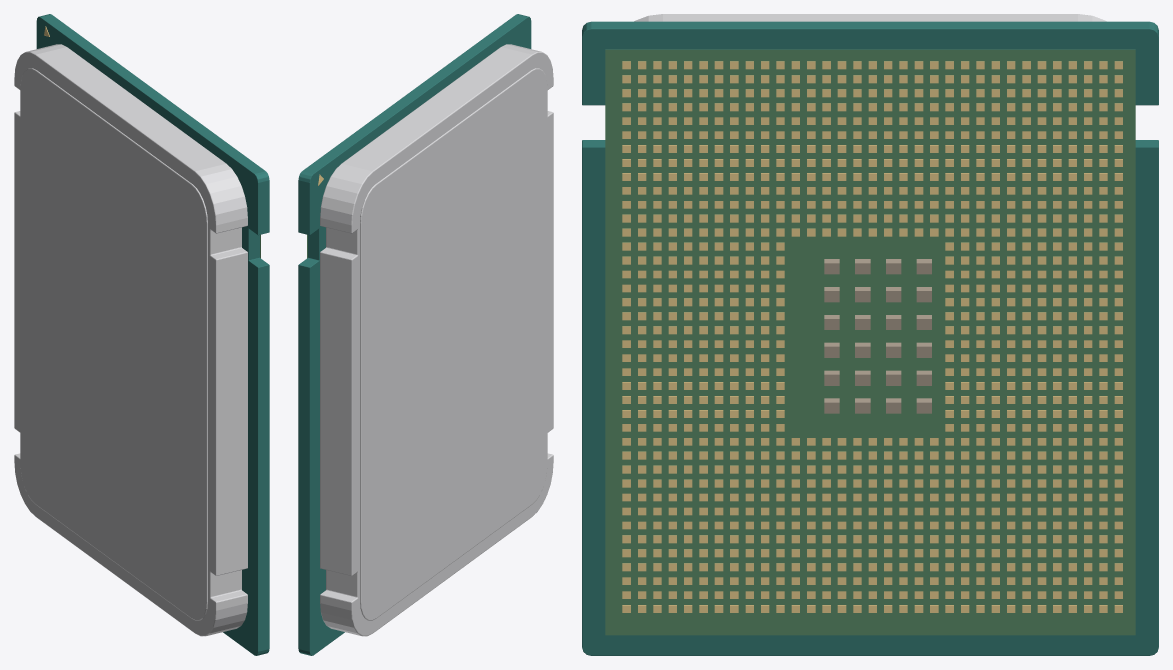
Rendered from CPU_LGA1700.glb.
3 views of the same model, side by side, from view 1: azimuth 30°, elevation 25°; view 2: azimuth 150°, elevation 25°; view 3: azimuth 270°, elevation 25° (orthographic). The views are drawn at different scales.
Parts seen in each view (by area): view 1: CPU_LGA1700_IHS, CPU_LGA1700_Substrate; view 2: CPU_LGA1700_IHS, CPU_LGA1700_Substrate; view 3: CPU_LGA1700_Pads, CPU_LGA1700_Substrate, CPU_LGA1700_IHS.
Part boxes in pixels (box(x1,y1,x2,y2)): CPU_LGA1700_IHS: box(14, 44, 247, 636); CPU_LGA1700_Substrate: box(36, 14, 269, 655); CPU_LGA1700_IHS: box(320, 44, 553, 636); CPU_LGA1700_Substrate: box(298, 14, 531, 655); CPU_LGA1700_Pads: box(605, 49, 1135, 635); CPU_LGA1700_Substrate: box(582, 21, 1158, 655); CPU_LGA1700_IHS: box(634, 14, 1106, 21).
Bounding box in the file's own units: 0.0051 × 0.045 × 0.0375.
